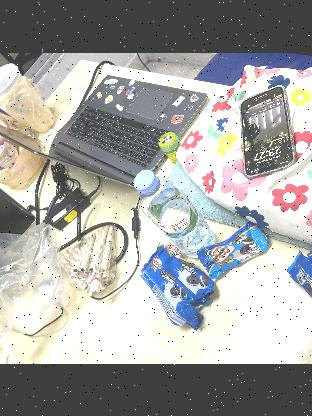Others: (0, 219, 65, 346), (138, 242, 216, 330), (194, 219, 268, 279), (60, 223, 118, 297), (0, 73, 52, 132), (0, 134, 48, 188), (286, 247, 312, 328), (0, 60, 18, 98), (0, 140, 20, 171), (0, 340, 10, 364), (0, 58, 4, 69)
Plastic Bottle: (134, 170, 216, 252)
